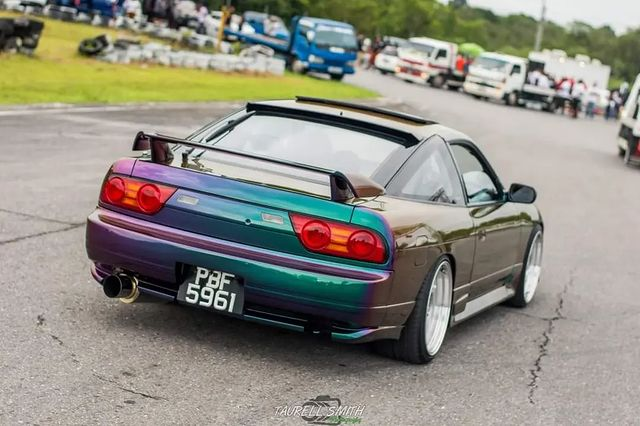License-Plate: (184, 263, 249, 301)
